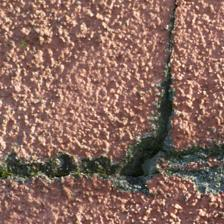Crack: (4, 31, 178, 160)
